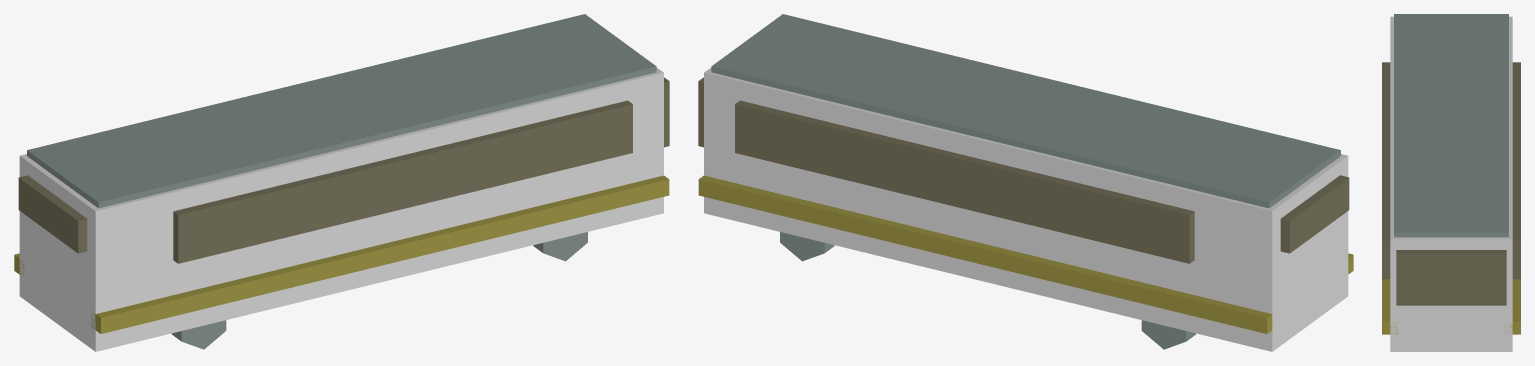
Rendered from SM_AutobusCruzado_v0_Cruzado_LOD1.fbx.
3 views of the same model, side by side, from view 1: azimuth 30°, elevation 25°; view 2: azimuth 150°, elevation 25°; view 3: azimuth 270°, elevation 25° (orthographic). The views are drawn at different scales.
Visible parts, largest first — view 1: SM_aqui_paso_algo_v15_LOD1; view 2: SM_aqui_paso_algo_v15_LOD1; view 3: SM_aqui_paso_algo_v15_LOD1.
Boxes of the visible parts, x1,y1,x2,y2 form: SM_aqui_paso_algo_v15_LOD1: (14,14,669,351); SM_aqui_paso_algo_v15_LOD1: (698,14,1353,351); SM_aqui_paso_algo_v15_LOD1: (1382,14,1520,351).
Size of the model in its own units: 11.36 by 3.16 by 2.9.
